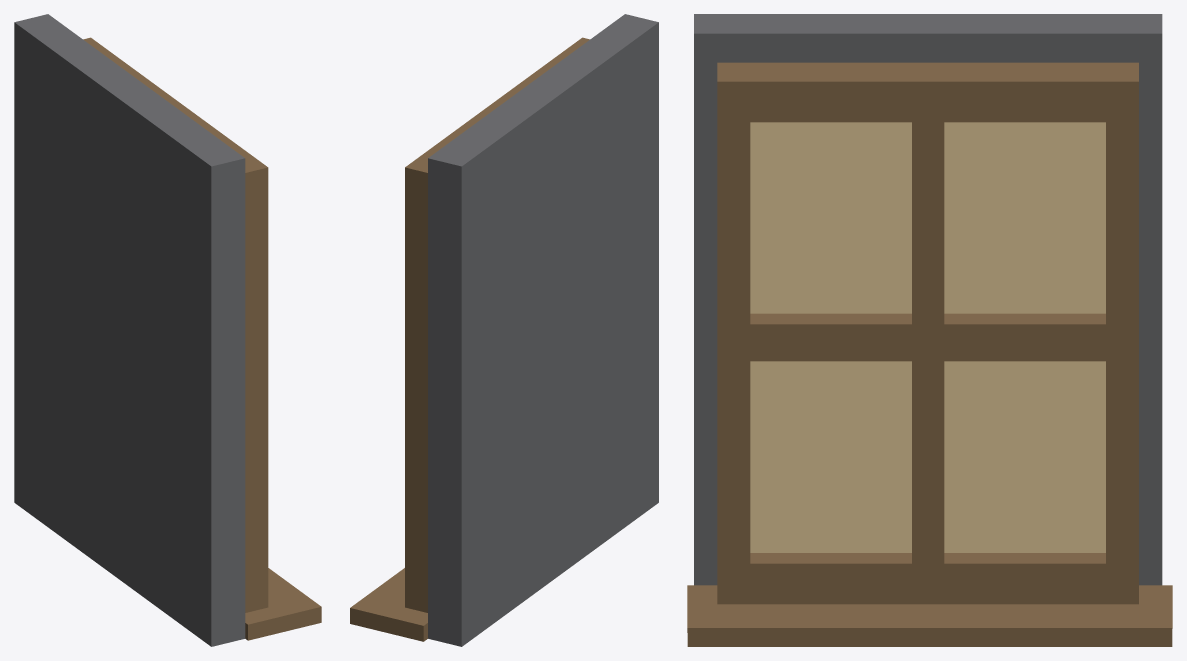
Rendered from O_Enviroment_FakeWindow_1.fbx.
3 renders of one model, left to right at view 1: azimuth 30°, elevation 25°; view 2: azimuth 150°, elevation 25°; view 3: azimuth 270°, elevation 25°, orthographic. The views are drawn at different scales.
Visible parts, largest first — view 1: pCube30; view 2: pCube30; view 3: pCube30.
Boxes of the visible parts, box(x1,y1,x2,y2) form: pCube30: box(14, 14, 321, 646); pCube30: box(350, 14, 658, 646); pCube30: box(687, 14, 1172, 646).
Size of the model in its own units: 0.6102 by 2.61 by 2.01.
